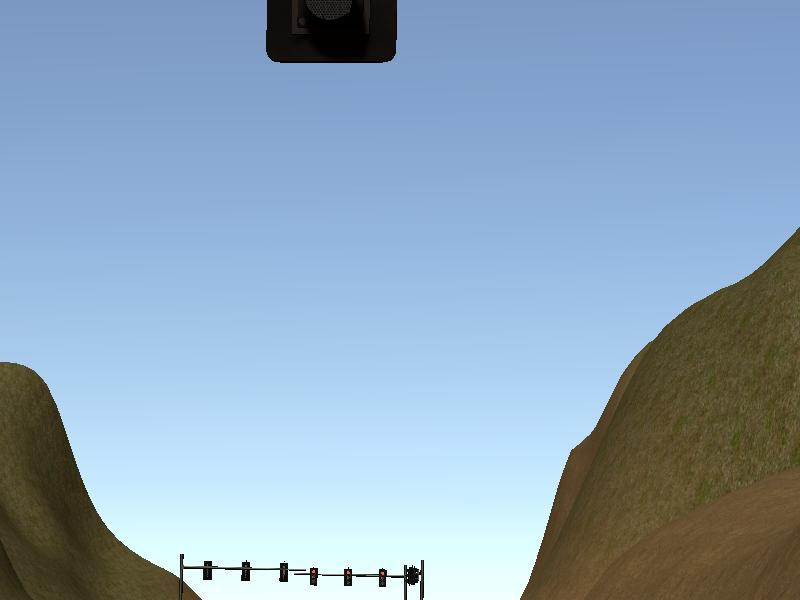Red: (342, 567, 354, 585), (309, 567, 319, 585), (379, 568, 388, 586)
